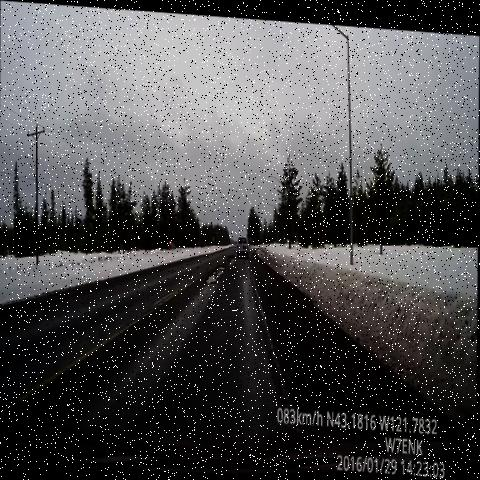pothole: (195, 249, 232, 291)
